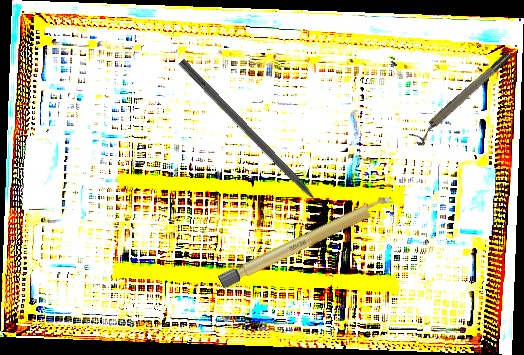Fixation Ring: (408, 49, 518, 148)
Hook Surgical: (176, 58, 335, 222)
Scalpel Handle: (217, 191, 397, 290)
